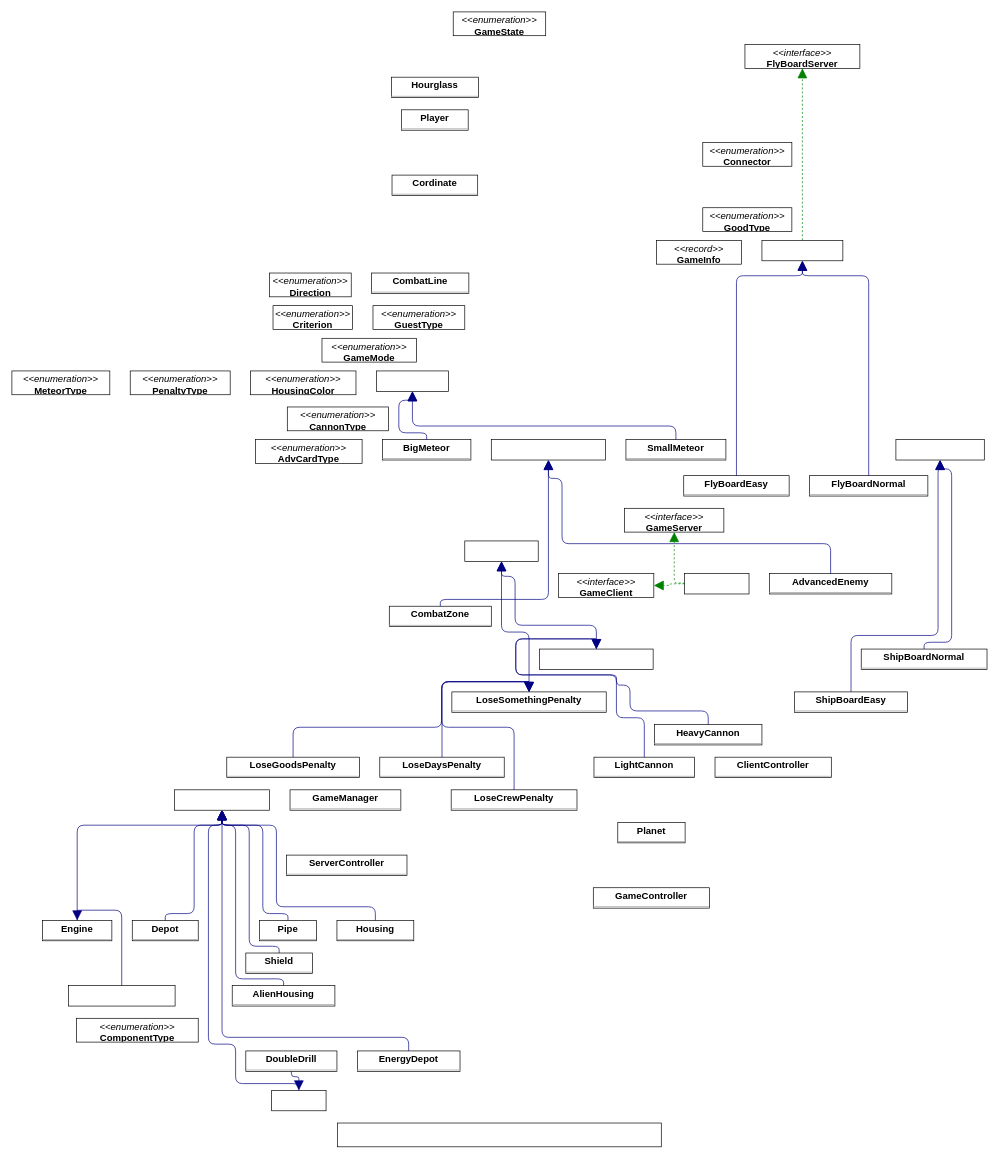
Some shapes in this 999 by 1159 pixel diagram are drawn without their labels. Each missing label, with the centre of its shape:
<<package>> package org.mio.progettoingsoft.model.advCards.sealed: point (499, 1134)
AdventureCard: point (548, 449)
CannonPenalty: point (596, 658)
Component: point (222, 799)
DoubleEngine: point (121, 995)
Drill: point (298, 1100)
FlyBoard: point (802, 250)
Game: point (716, 583)
Meteor: point (412, 380)
Penalty: point (501, 550)
ShipBoard: point (939, 449)
